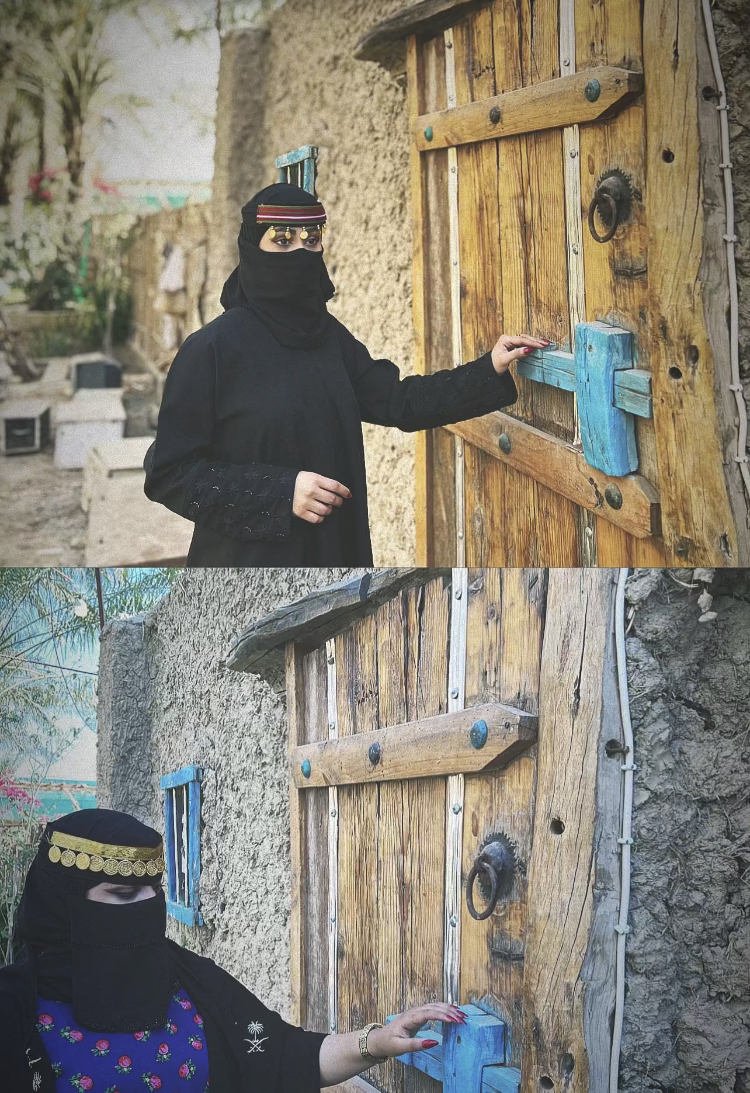Saudi_Founding_Day: (137, 177, 557, 567), (1, 804, 476, 1093)
